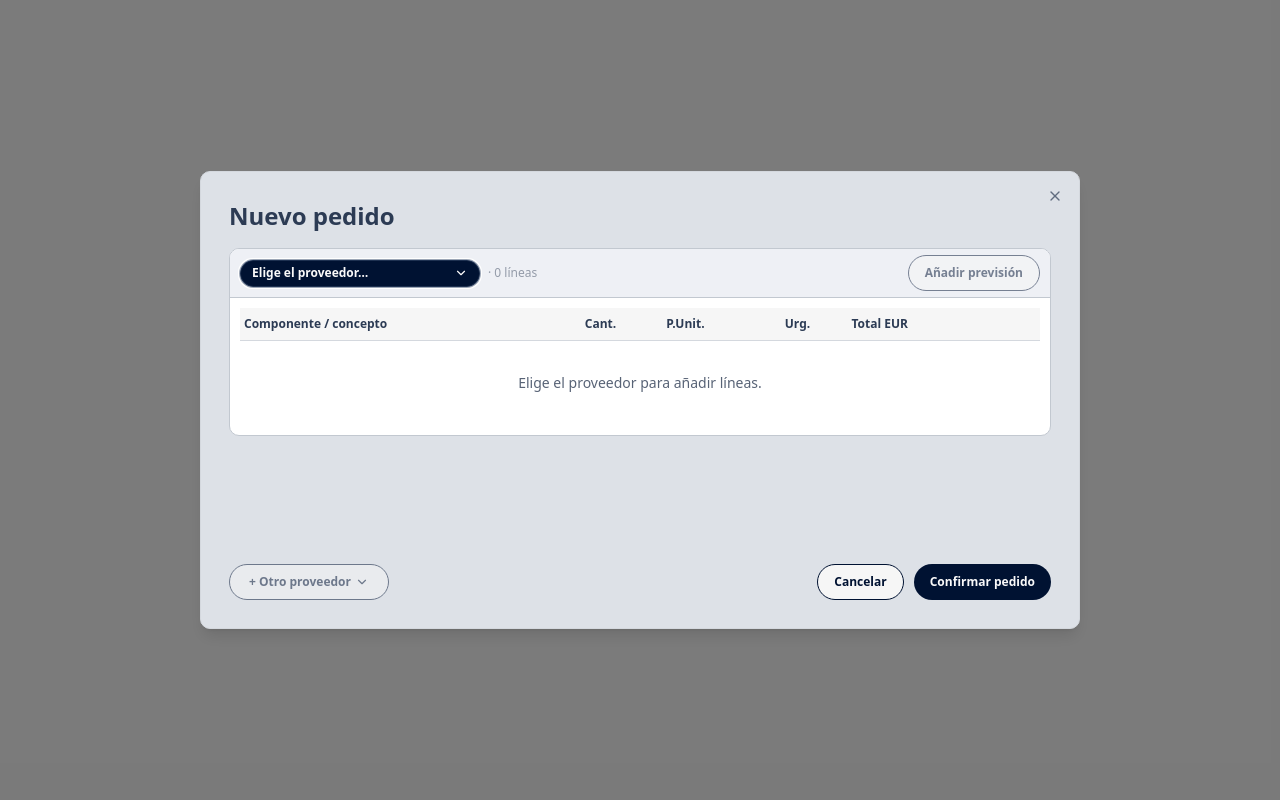
Test case: NuevoPedidoDialog › sin líneas: "Añade al menos una línea." y no envía nada
Step 1. Click the button "Confirmar pedido" → coordinates (982, 582), box [914, 564, 1051, 600]
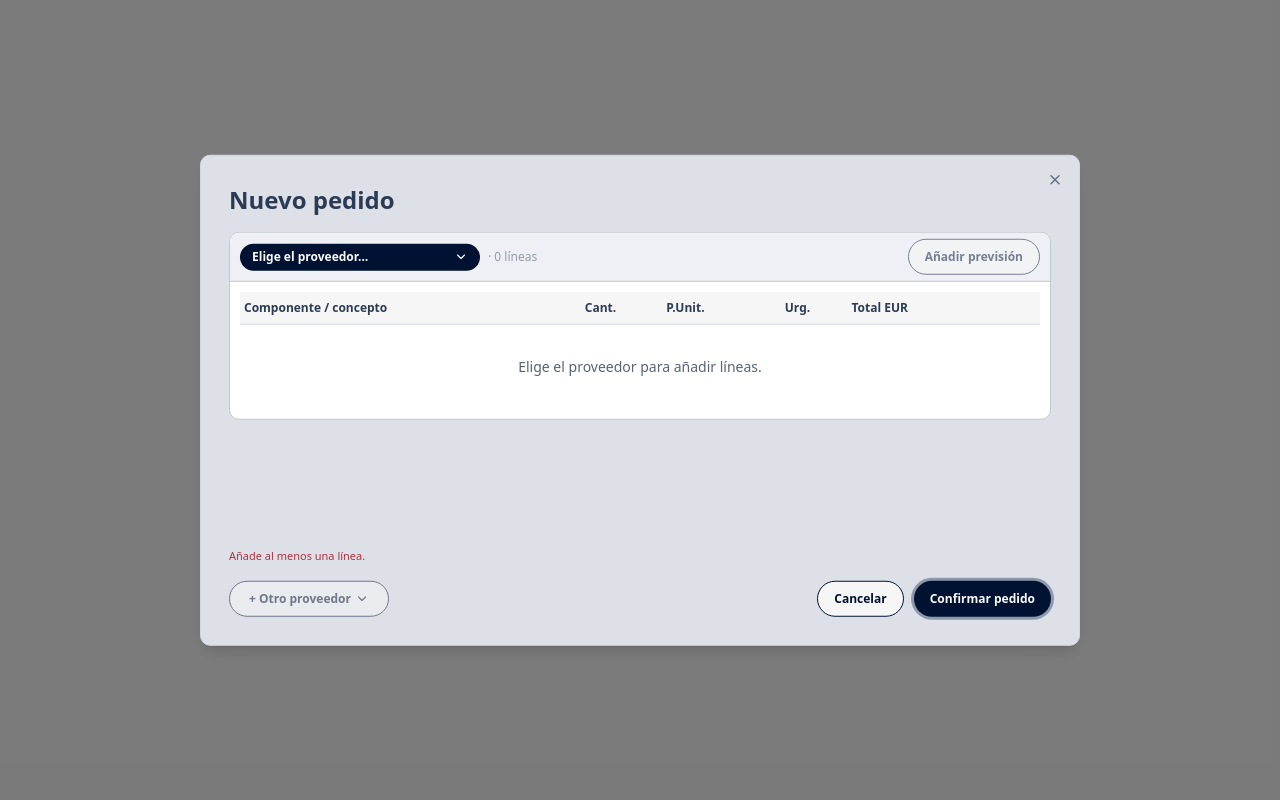
Now the message reads "Añade al menos una línea.", box [229, 548, 365, 563]
